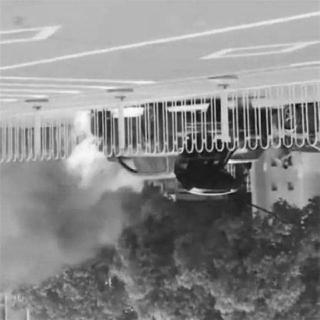Fire: (58, 107, 110, 193), (116, 109, 140, 121)
Smoke: (1, 170, 111, 288)
